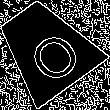O_NW: (12, 15, 80, 82)
